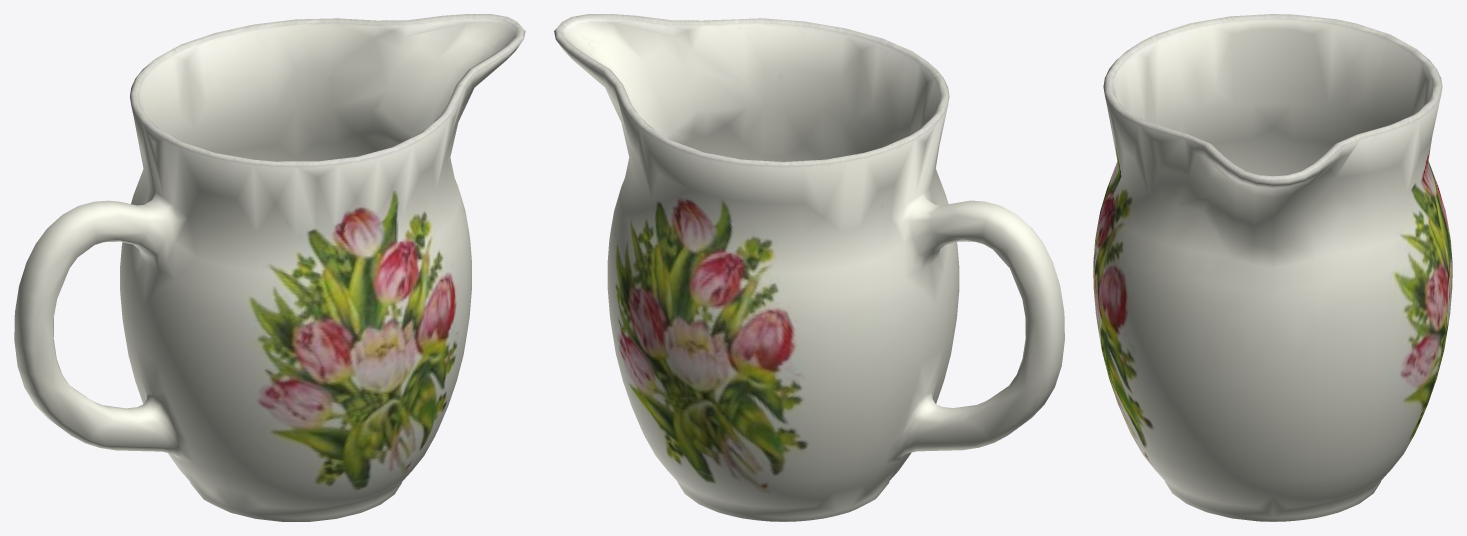
The model's file is jug.glb.
3 renders of one model, left to right at view 1: azimuth 30°, elevation 25°; view 2: azimuth 150°, elevation 25°; view 3: azimuth 270°, elevation 25°, orthographic. The views are drawn at different scales.
Parts seen in each view (by area): view 1: jug_01; view 2: jug_01; view 3: jug_01.
Part boxes in pixels (x1,y1,x2,y2): jug_01: (14,14,525,521); jug_01: (554,14,1064,521); jug_01: (1093,14,1452,521).
Size of the model in its own units: 0.275 by 0.2113 by 0.1675.
Materials: 1 (1 with a texture image).
